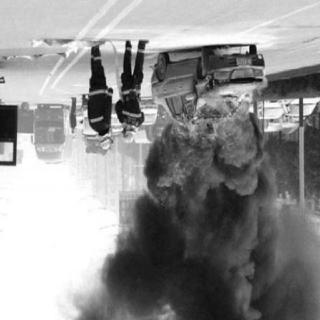Fire: (150, 96, 262, 206)
Smoke: (86, 204, 320, 320)
